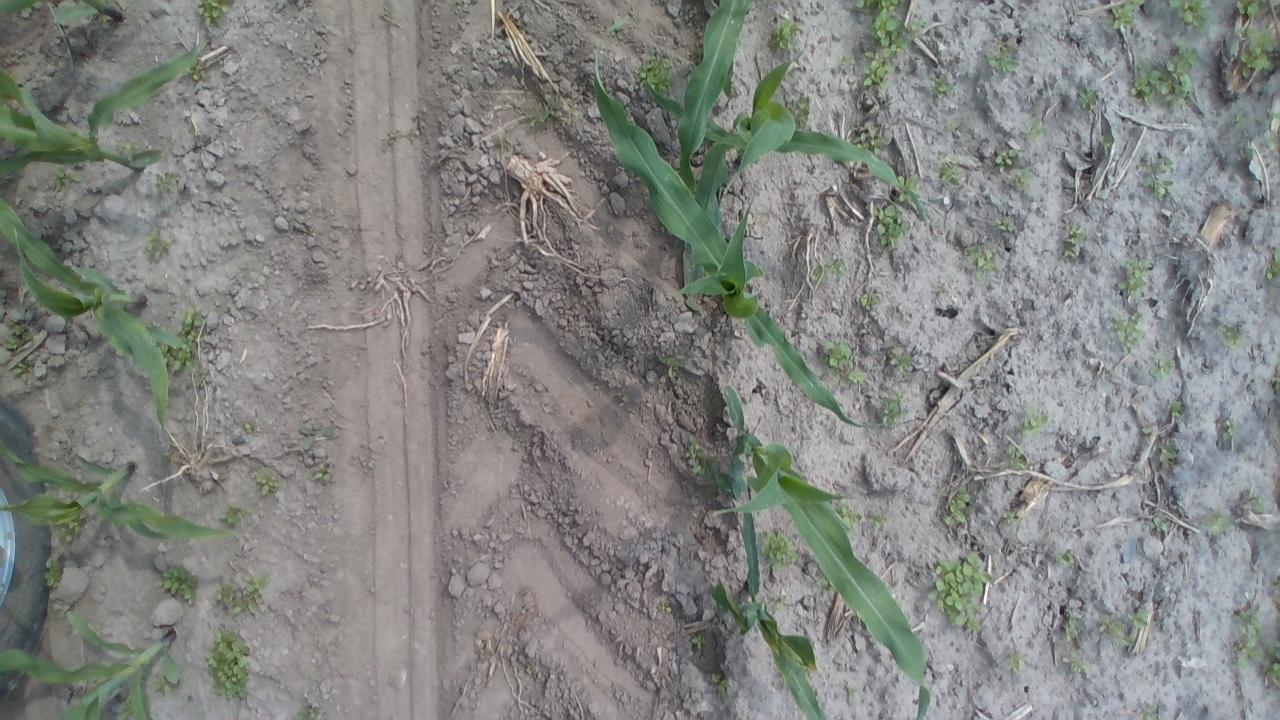Maize: (593, 46, 893, 434), (710, 384, 934, 720), (668, 53, 930, 248), (0, 203, 189, 428), (0, 38, 212, 184), (706, 508, 838, 719), (0, 441, 243, 542), (651, 0, 775, 196), (2, 605, 188, 720), (2, 0, 128, 33)
Weeds: (926, 550, 992, 632), (1126, 46, 1200, 109), (204, 626, 252, 702), (1227, 106, 1280, 162), (212, 570, 276, 616), (1230, 606, 1270, 671), (820, 336, 866, 388), (1236, 24, 1280, 77), (866, 13, 921, 52), (156, 564, 202, 606), (636, 52, 674, 100), (1140, 153, 1176, 202), (762, 528, 799, 574), (1118, 254, 1152, 304), (1099, 612, 1139, 654), (874, 202, 908, 250), (1110, 308, 1146, 352), (832, 503, 886, 532), (1168, 0, 1212, 34), (766, 16, 803, 55), (940, 485, 973, 528), (524, 97, 560, 133), (880, 391, 914, 428), (861, 48, 892, 88), (965, 243, 999, 279), (1104, 1, 1142, 31), (989, 39, 1019, 76), (140, 228, 174, 260), (158, 342, 192, 374), (296, 419, 336, 446), (1019, 407, 1050, 441), (1060, 224, 1087, 262), (884, 347, 916, 378), (1217, 318, 1248, 350), (682, 439, 708, 477), (177, 307, 205, 341), (2, 322, 36, 350), (252, 469, 284, 498), (194, 0, 231, 25), (850, 508, 890, 531), (812, 257, 846, 284), (856, 129, 891, 155), (786, 94, 812, 128), (1060, 612, 1084, 648), (1199, 509, 1230, 536), (660, 354, 686, 386), (54, 518, 83, 546), (157, 664, 182, 696), (1261, 647, 1280, 687), (1004, 442, 1031, 470), (709, 671, 733, 702), (1150, 353, 1176, 381), (42, 558, 64, 591), (1063, 651, 1091, 676), (931, 70, 954, 100), (1075, 84, 1101, 110), (1233, 0, 1268, 19), (851, 0, 902, 13), (936, 160, 961, 186), (1216, 416, 1240, 443), (48, 168, 80, 188), (387, 128, 422, 146), (310, 462, 334, 488), (293, 700, 324, 720), (152, 170, 180, 192), (606, 14, 631, 38), (1002, 651, 1026, 676), (1010, 167, 1036, 190), (992, 146, 1019, 168), (1130, 604, 1152, 631), (218, 507, 246, 528), (899, 172, 924, 195), (13, 360, 36, 384), (1244, 489, 1266, 514), (859, 288, 880, 314), (1135, 702, 1167, 719), (492, 133, 516, 155), (188, 60, 208, 84), (1022, 120, 1046, 140), (1158, 443, 1180, 464), (118, 697, 138, 720), (1264, 256, 1280, 284), (1145, 514, 1167, 534), (995, 214, 1017, 234), (1166, 396, 1186, 417), (1057, 546, 1076, 566), (770, 594, 791, 612), (195, 134, 218, 149), (121, 140, 140, 158), (240, 418, 258, 437), (690, 633, 710, 650), (656, 598, 672, 619), (1004, 508, 1022, 526), (841, 685, 860, 701), (359, 456, 377, 472), (836, 52, 852, 70), (160, 449, 176, 466), (614, 390, 629, 406), (686, 60, 698, 79), (1100, 134, 1112, 148), (524, 662, 534, 676)
